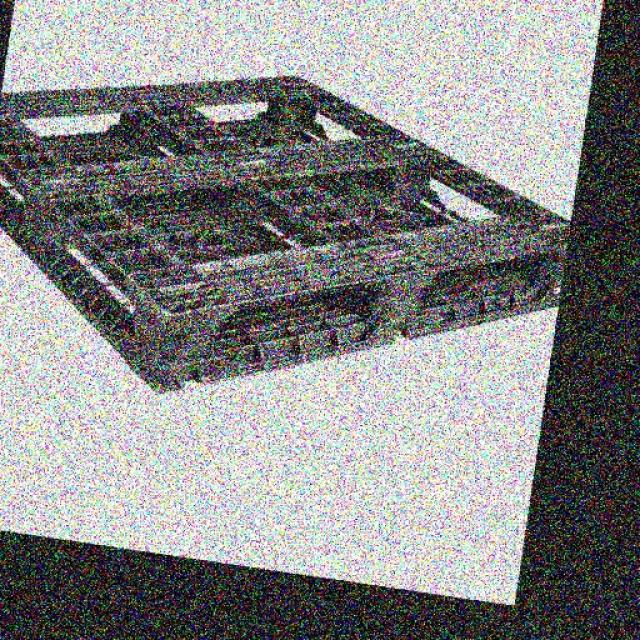non-igps: (0, 69, 572, 395)
